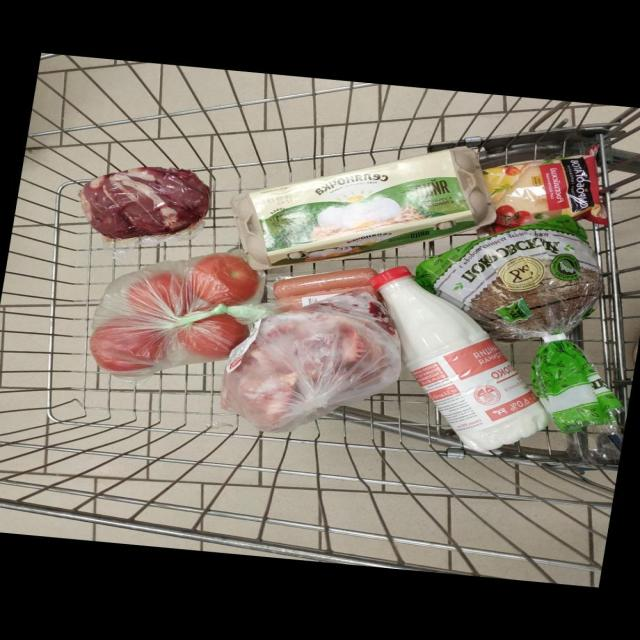Bread: (415, 214, 621, 434)
Cheese: (484, 150, 606, 230)
Eggs: (232, 146, 496, 269)
Meat: (223, 287, 395, 431), (81, 166, 209, 238)
Milk: (374, 267, 548, 451)
Sausages: (273, 267, 377, 308)
Tomatoes: (90, 319, 166, 372), (190, 253, 258, 305), (177, 313, 247, 359), (126, 273, 191, 316)
